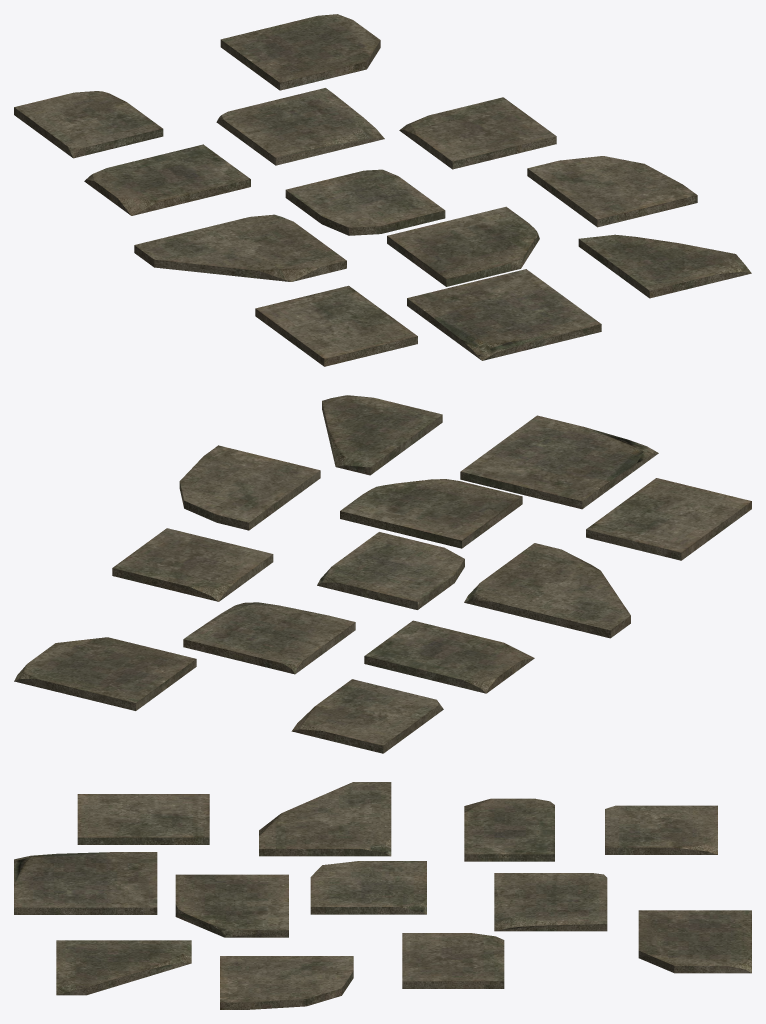
The model's file is Stones.fbx.
3 views of the same model, one above another, from view 1: azimuth 30°, elevation 25°; view 2: azimuth 150°, elevation 25°; view 3: azimuth 270°, elevation 25° (orthographic). The views are drawn at different scales.
Visible parts, largest first — view 1: Stones.005, Stones.007, Stones.011, Stones.006, Stones.004, Stones.010, Stones.002, Stones.008, Stones.009, Stones.003, Stones.001, Stones; view 2: Stones.005, Stones.007, Stones.011, Stones.004, Stones.006, Stones.010, Stones.002, Stones.008, Stones.009, Stones.003, Stones, Stones.001; view 3: Stones.005, Stones.007, Stones.011, Stones.006, Stones.004, Stones.010, Stones.002, Stones.008, Stones.001, Stones.003, Stones.009, Stones.
Part boxes in pixels (left/top/right/bottom): Stones.005: left=407, top=269, right=601, bottom=360; Stones.007: left=134, top=214, right=346, bottom=281; Stones.011: left=220, top=14, right=380, bottom=90; Stones.006: left=255, top=285, right=417, bottom=366; Stones.004: left=387, top=206, right=539, bottom=286; Stones.010: left=216, top=88, right=384, bottom=165; Stones.002: left=527, top=156, right=697, bottom=227; Stones.008: left=285, top=169, right=445, bottom=235; Stones.009: left=84, top=144, right=250, bottom=215; Stones.003: left=399, top=97, right=556, bottom=169; Stones.001: left=578, top=234, right=751, bottom=298; Stones: left=14, top=91, right=163, bottom=158; Stones.005: left=460, top=415, right=658, bottom=509; Stones.007: left=464, top=543, right=630, bottom=638; Stones.011: left=14, top=637, right=196, bottom=710; Stones.004: left=340, top=479, right=522, bottom=548; Stones.006: left=586, top=478, right=751, bottom=560; Stones.010: left=183, top=602, right=355, bottom=674; Stones.002: left=179, top=445, right=320, bottom=530; Stones.008: left=317, top=532, right=464, bottom=609; Stones.009: left=364, top=620, right=534, bottom=693; Stones.003: left=112, top=528, right=273, bottom=601; Stones: left=291, top=679, right=443, bottom=753; Stones.001: left=322, top=395, right=442, bottom=475; Stones.005: left=14, top=852, right=157, bottom=914; Stones.007: left=259, top=782, right=391, bottom=856; Stones.011: left=638, top=910, right=751, bottom=973; Stones.006: left=77, top=794, right=209, bottom=844; Stones.004: left=175, top=874, right=288, bottom=937; Stones.010: left=494, top=873, right=607, bottom=931; Stones.002: left=220, top=956, right=353, bottom=1009; Stones.008: left=310, top=861, right=426, bottom=914; Stones.001: left=56, top=940, right=191, bottom=995; Stones.003: left=402, top=933, right=504, bottom=988; Stones.009: left=464, top=798, right=554, bottom=861; Stones: left=605, top=805, right=717, bottom=854.
Bounding box in the file's own units: 3920 × 63.63 × 5546.
1 material, 1 textured.
